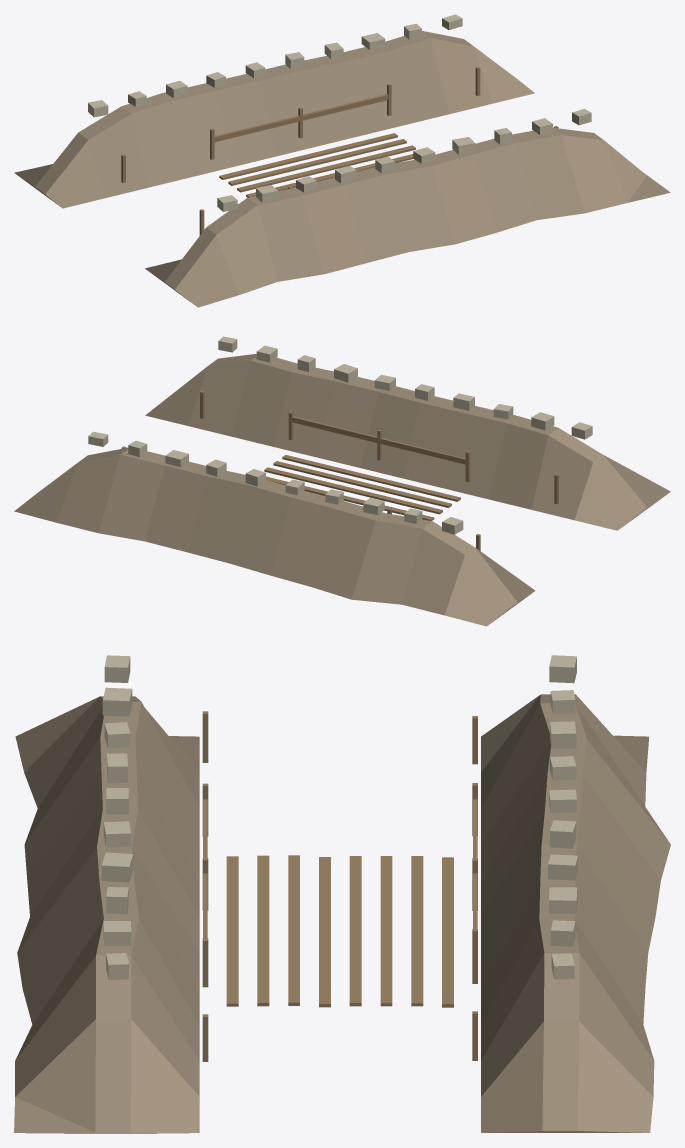
Rendered from trench.glb.
3 renders of one model, top to bottom at view 1: azimuth 30°, elevation 25°; view 2: azimuth 150°, elevation 25°; view 3: azimuth 270°, elevation 25°, orthographic. The views are drawn at different scales.
Visible parts, largest first — view 1: trench; view 2: trench; view 3: trench.
Part boxes in pixels (box(x1,y1,x2,y2)): trench: box(14, 14, 670, 307); trench: box(14, 336, 670, 626); trench: box(14, 655, 670, 1133).
Size of the model in its own units: 8 by 1.19 by 5.6.
